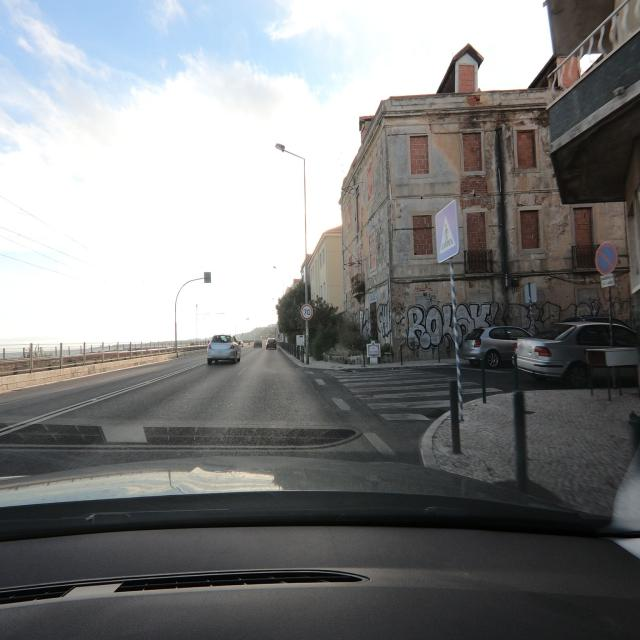forb_stopping: (592, 242, 617, 276)
